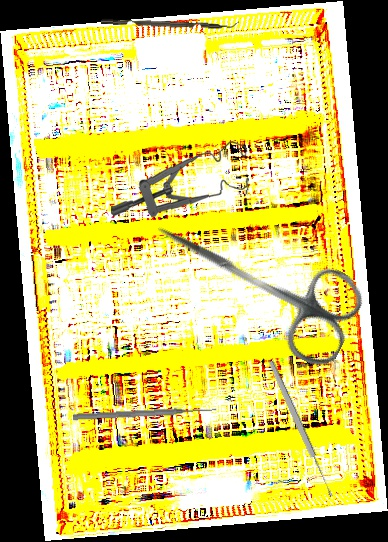Chopper: (101, 11, 239, 32)
Iris Scissors: (135, 188, 372, 374)
Pusher: (72, 405, 218, 422)
Speculum: (110, 134, 252, 224)
Surgical Spoon: (267, 359, 335, 499)
